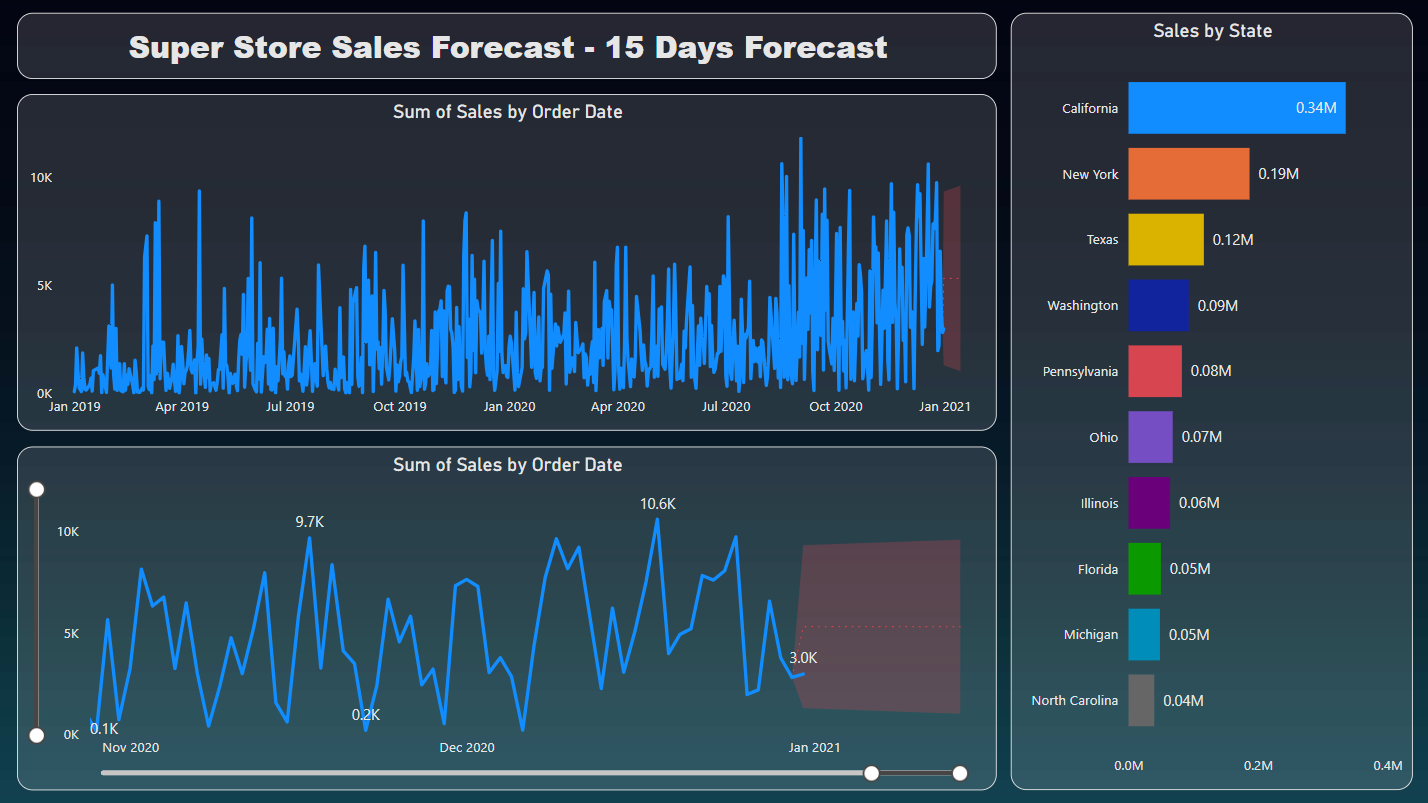

What the dashboard file says about the page in this screenshot:
{"tool":"powerbi","page":{"name":"Page 2","canvas":[1280,720],"ordinal":1},"visuals":[{"type":"lineChart","fields":{"Y":["Sum(SuperStore_Sales_Dataset.Sales)"],"Category":["SuperStore_Sales_Dataset.Order Date"]},"box":[17.4,84.9,875.6,301.2],"z":0},{"type":"lineChart","fields":{"Y":["Sum(SuperStore_Sales_Dataset.Sales)"],"Category":["SuperStore_Sales_Dataset.Order Date"]},"box":[17.9,399.8,875.4,307.1],"z":1000},{"type":"barChart","title":"Sales by State","fields":{"Category":["SuperStore_Sales.State"],"Y":["Sum(SuperStore_Sales.Sales)"]},"box":[905.6,12.3,359.6,694.5],"z":1001},{"type":"textbox","box":[17.4,12.8,875.6,59.3],"z":1002}]}

Visuals, with their boxes in screenshot pixels (x1, y1, x2, y2), scaled from the page's 1280x720 canvas onto the 1428x803 screenshot:
lineChart - Sum(SuperStore_Sales_Dataset.Sales) x SuperStore_Sales_Dataset.Order Date: select_region(19, 95, 996, 431)
lineChart - Sum(SuperStore_Sales_Dataset.Sales) x SuperStore_Sales_Dataset.Order Date: select_region(20, 446, 997, 788)
"Sales by State" barChart: select_region(1010, 14, 1411, 788)
textbox: select_region(19, 14, 996, 80)
